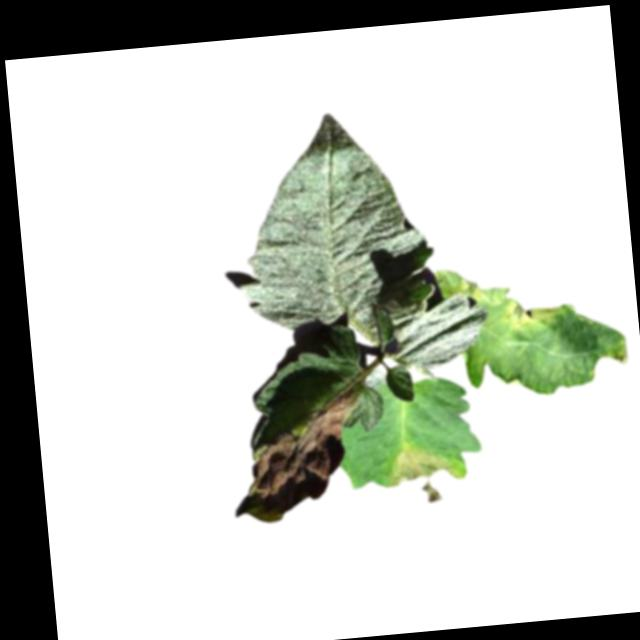Late_blight: (223, 387, 370, 526), (388, 435, 462, 505), (435, 264, 508, 306), (504, 294, 567, 332), (611, 345, 631, 367)
healthy: (223, 98, 491, 384)
